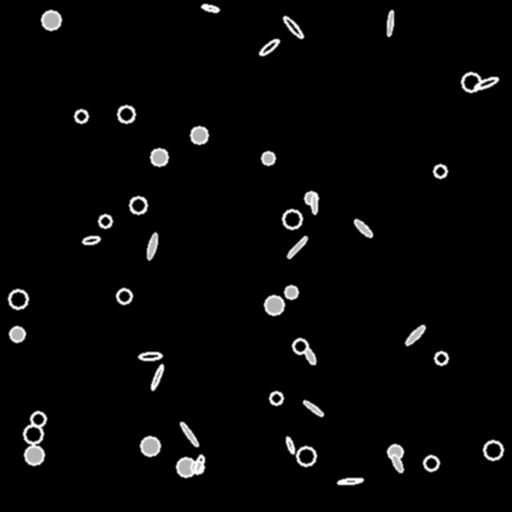pseudomonas: (285, 235, 309, 259), (282, 15, 304, 39), (179, 421, 199, 447), (405, 324, 425, 346), (258, 37, 280, 57), (353, 218, 373, 238), (302, 399, 324, 417), (474, 75, 498, 91), (150, 364, 164, 390), (146, 232, 158, 260), (390, 453, 404, 473), (303, 347, 317, 365), (337, 477, 363, 485), (386, 11, 394, 35), (194, 455, 204, 473), (285, 436, 295, 454), (139, 352, 161, 360), (83, 235, 99, 245), (201, 4, 219, 12), (311, 195, 317, 213)
synechocystis: (24, 425, 42, 443), (265, 296, 283, 314), (9, 290, 27, 308), (42, 11, 60, 29), (25, 446, 43, 464), (177, 458, 195, 476), (283, 210, 301, 228), (462, 73, 480, 91), (297, 447, 315, 465), (484, 441, 502, 459), (141, 437, 159, 455), (118, 106, 134, 122), (191, 127, 207, 143), (130, 197, 146, 213), (151, 149, 167, 165), (10, 327, 24, 341), (117, 289, 131, 303), (293, 339, 307, 353), (31, 412, 45, 426), (388, 445, 402, 459), (424, 456, 438, 470), (75, 110, 87, 122), (305, 192, 317, 204), (99, 215, 111, 227), (285, 286, 297, 298), (270, 392, 282, 404), (434, 165, 446, 177), (435, 352, 447, 364), (191, 461, 203, 473), (262, 152, 274, 164)
